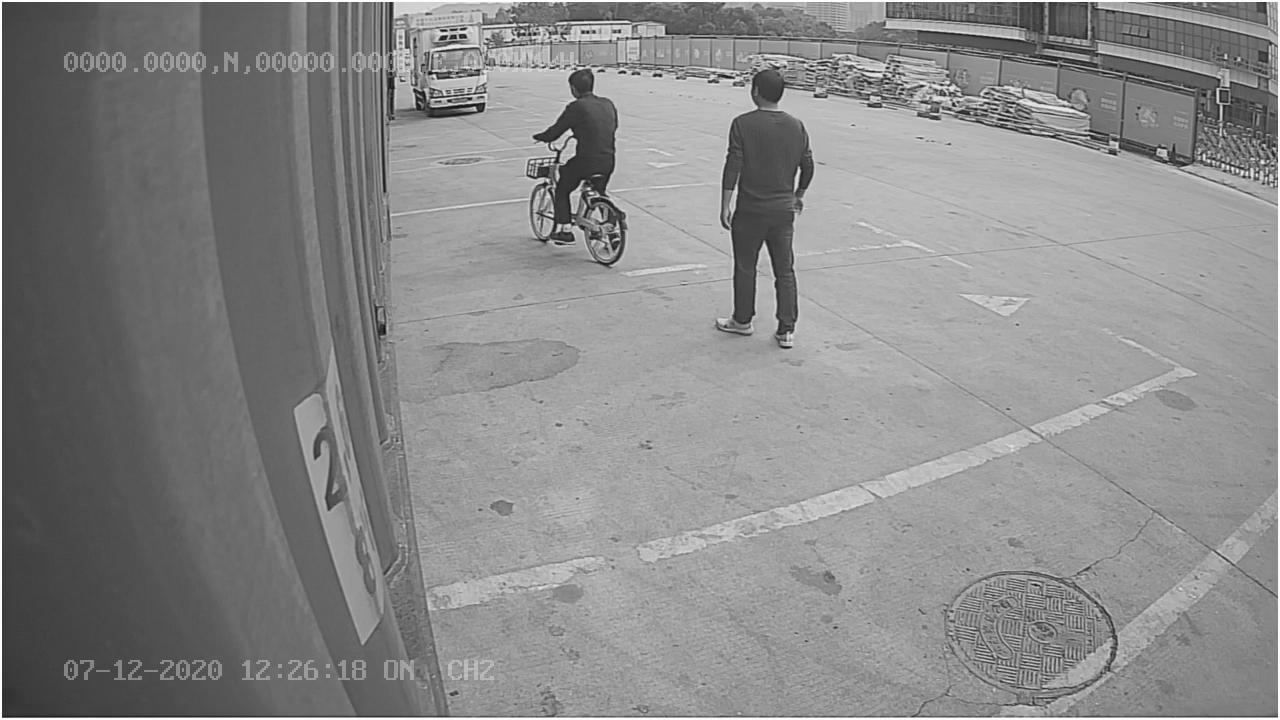person: (705, 67, 820, 347)
